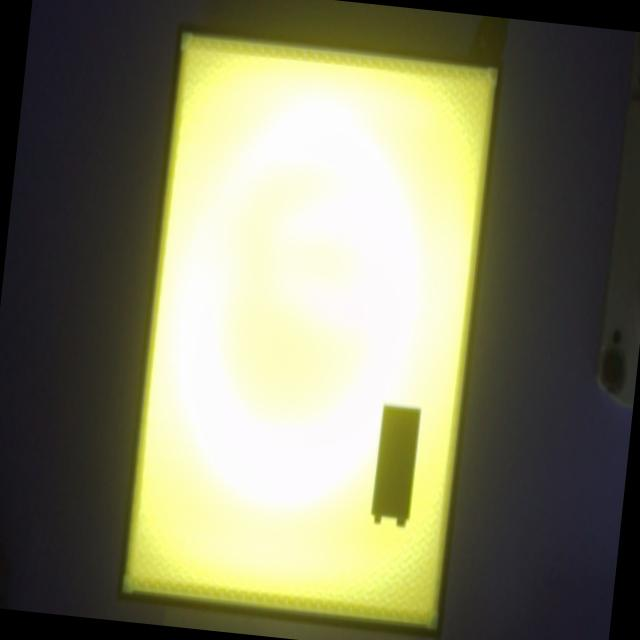bateria: (370, 405, 420, 527)
mesa: (116, 23, 504, 638)
